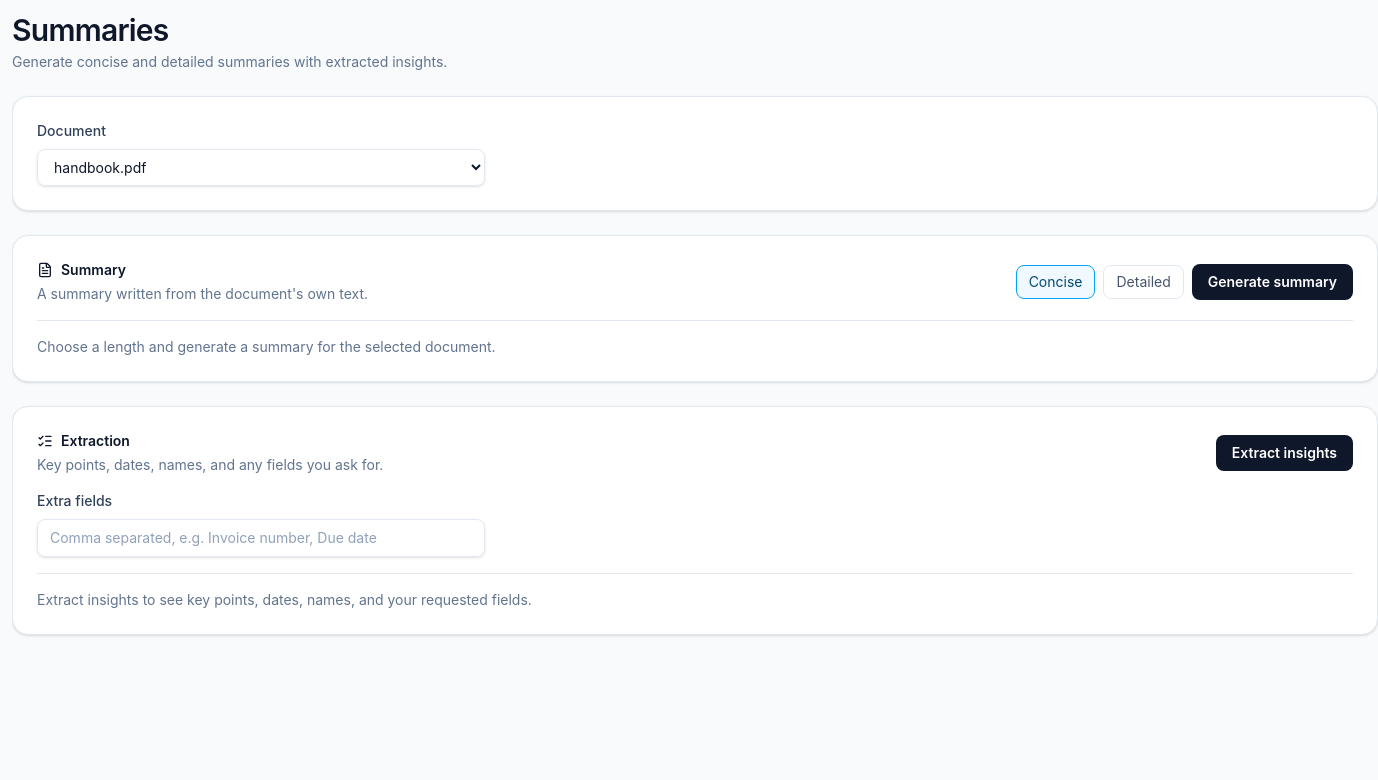
Test: SummariesPage › asks for a detailed summary when that length is chosen
This screenshot has width=1378, height=780.
Step 1. Click the button "Detailed" → point(1144, 282), box left=1104, top=265, right=1184, bottom=299
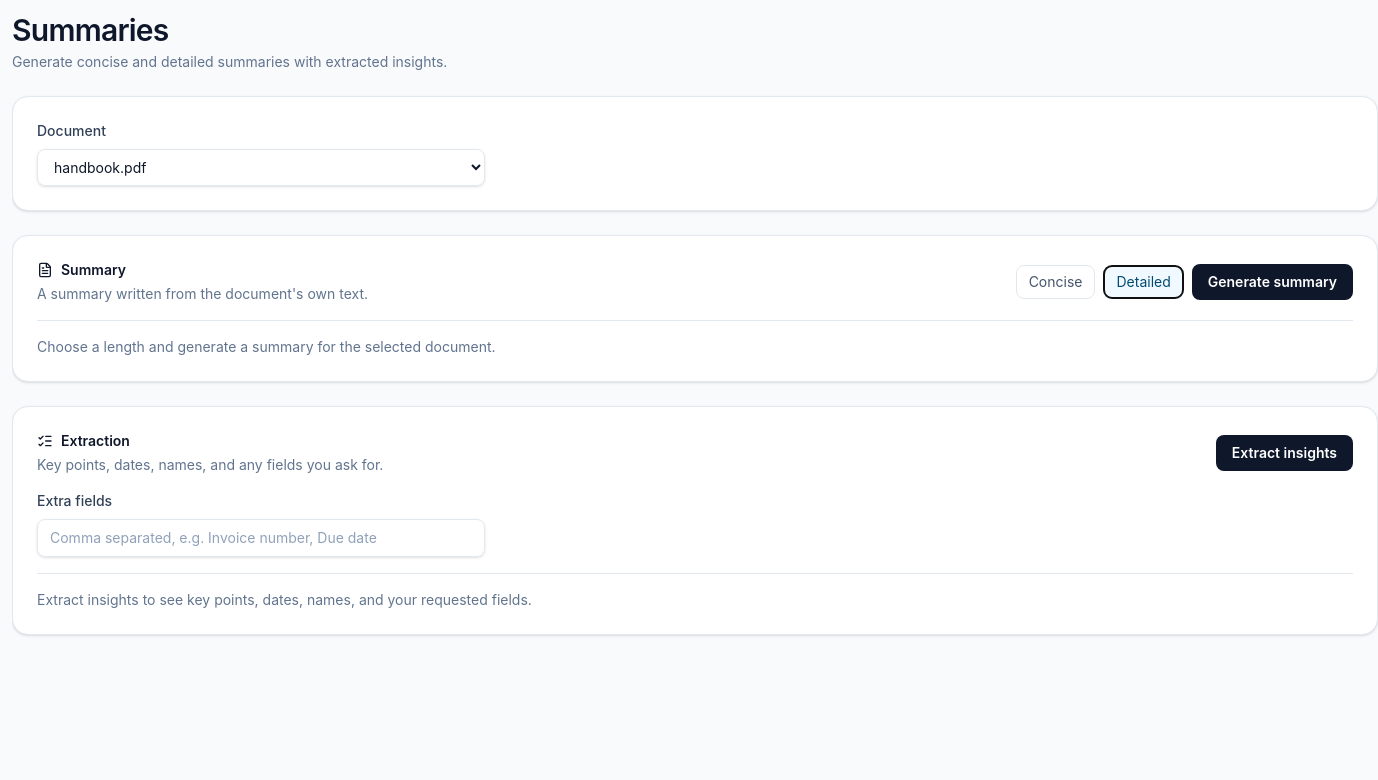
Step 2. Click the button "Generate summary" → point(1272, 282), box left=1192, top=264, right=1353, bottom=300
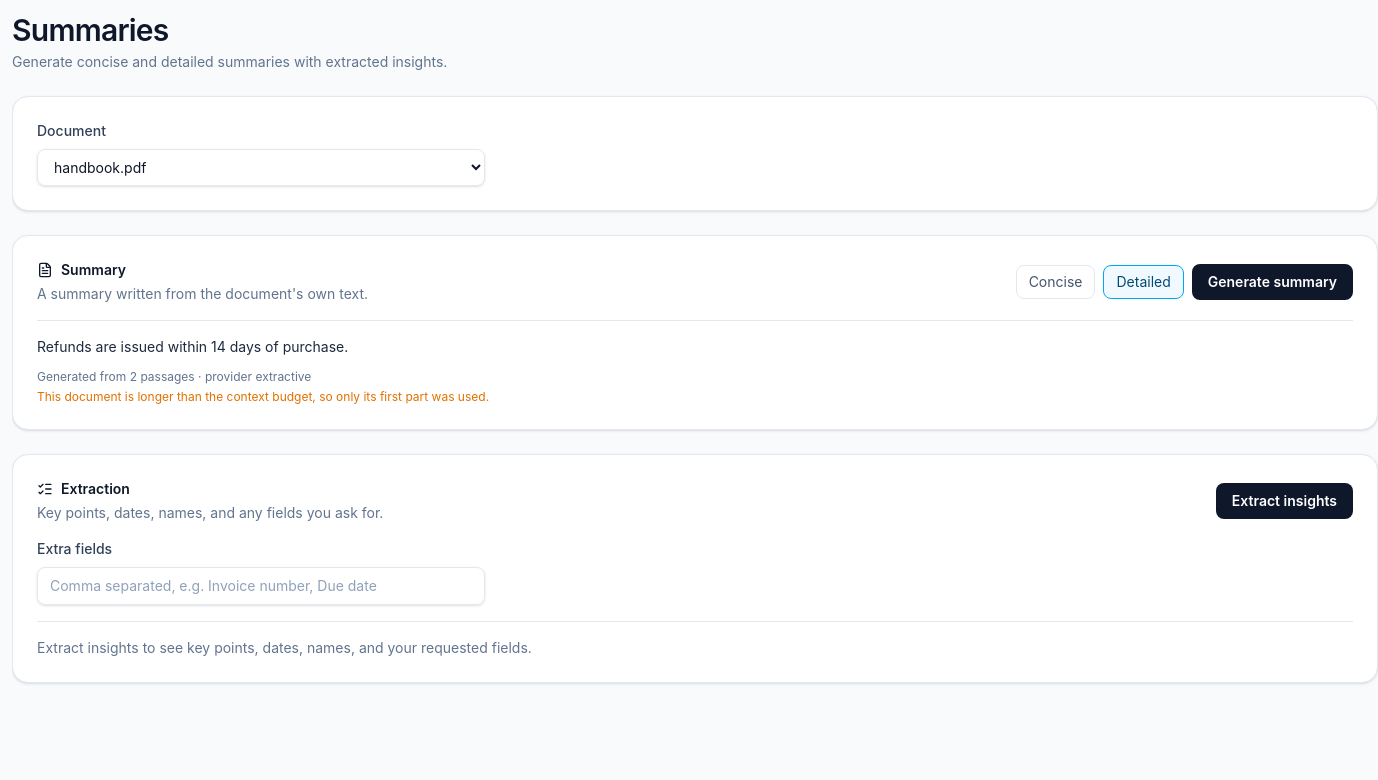
Now the text "Refunds are issued within 14 days of purchase." is shown, box left=37, top=338, right=348, bottom=355
